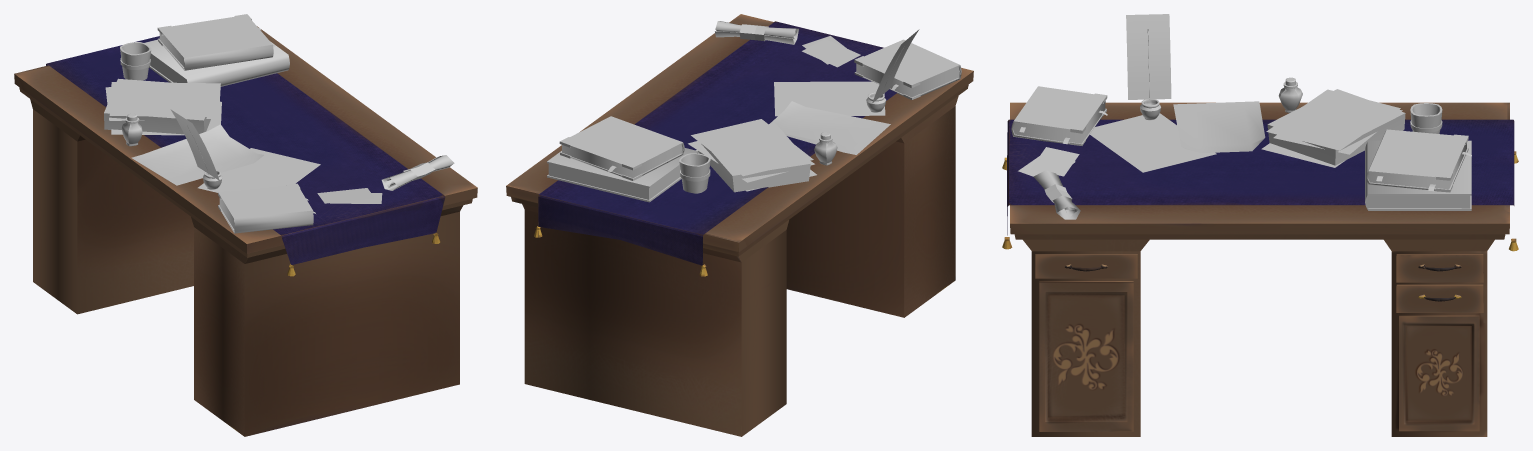
File: schreibtisch.fbx
3 views of the same model, side by side, from view 1: azimuth 30°, elevation 25°; view 2: azimuth 150°, elevation 25°; view 3: azimuth 270°, elevation 25° (orthographic). The views are drawn at different scales.
Visible parts, largest first — view 1: desk, tablecloth, stapel, book3, book1, paper, book2, paper.001, becher, scroll, Feder, brief (+1 smaller); view 2: desk, tablecloth, stapel, book3, book1, book2, paper, paper.001, scroll, becher, brief, Feder (+1 smaller); view 3: drawerpanels, desk, tablecloth, stapel, book3, paper, book1, paper.001, Feder, book2, scroll, becher (+2 smaller).
Boxes of the visible parts, left/top/right/bottom form: desk: left=14, top=26, right=477, bottom=436; tablecloth: left=46, top=36, right=445, bottom=276; stapel: left=104, top=78, right=221, bottom=135; book3: left=157, top=14, right=274, bottom=70; book1: left=218, top=183, right=315, bottom=233; paper: left=131, top=124, right=263, bottom=185; book2: left=144, top=39, right=289, bottom=86; paper.001: left=198, top=148, right=320, bottom=192; becher: left=120, top=42, right=151, bottom=80; scroll: left=381, top=155, right=454, bottom=190; Feder: left=170, top=109, right=219, bottom=180; brief: left=317, top=188, right=374, bottom=203; desk: left=506, top=14, right=973, bottom=436; tablecloth: left=534, top=21, right=896, bottom=276; stapel: left=688, top=119, right=816, bottom=192; book3: left=559, top=116, right=684, bottom=180; book1: left=854, top=39, right=961, bottom=99; book2: left=547, top=148, right=698, bottom=202; paper: left=770, top=101, right=890, bottom=154; paper.001: left=774, top=81, right=885, bottom=116; scroll: left=715, top=21, right=798, bottom=44; becher: left=679, top=153, right=710, bottom=193; brief: left=802, top=39, right=860, bottom=67; Feder: left=872, top=29, right=919, bottom=103; drawerpanels: left=1035, top=254, right=1483, bottom=431; desk: left=1010, top=102, right=1509, bottom=436; tablecloth: left=1002, top=119, right=1518, bottom=251; stapel: left=1261, top=89, right=1405, bottom=167; book3: left=1366, top=129, right=1471, bottom=192; paper: left=1173, top=101, right=1265, bottom=152; book1: left=1011, top=86, right=1107, bottom=145; paper.001: left=1089, top=113, right=1216, bottom=172; Feder: left=1126, top=14, right=1171, bottom=99; book2: left=1365, top=140, right=1471, bottom=210; scroll: left=1033, top=170, right=1080, bottom=219; becher: left=1410, top=103, right=1442, bottom=133.
Size of the model in its own units: 85.33 by 98.55 by 151.
